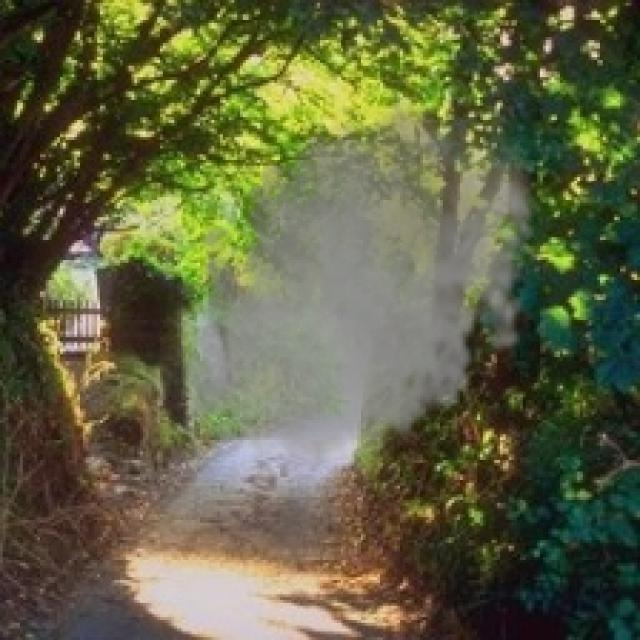Smoke: (177, 80, 546, 483)
